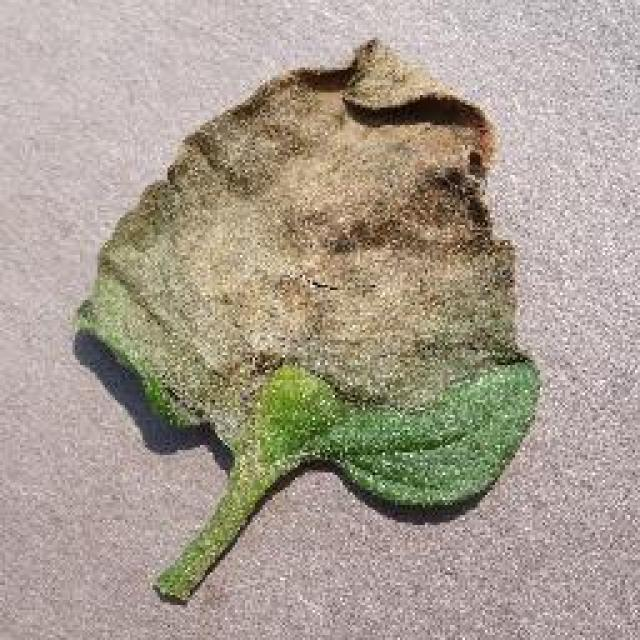Tomato___Late_blight: (75, 40, 538, 608)
